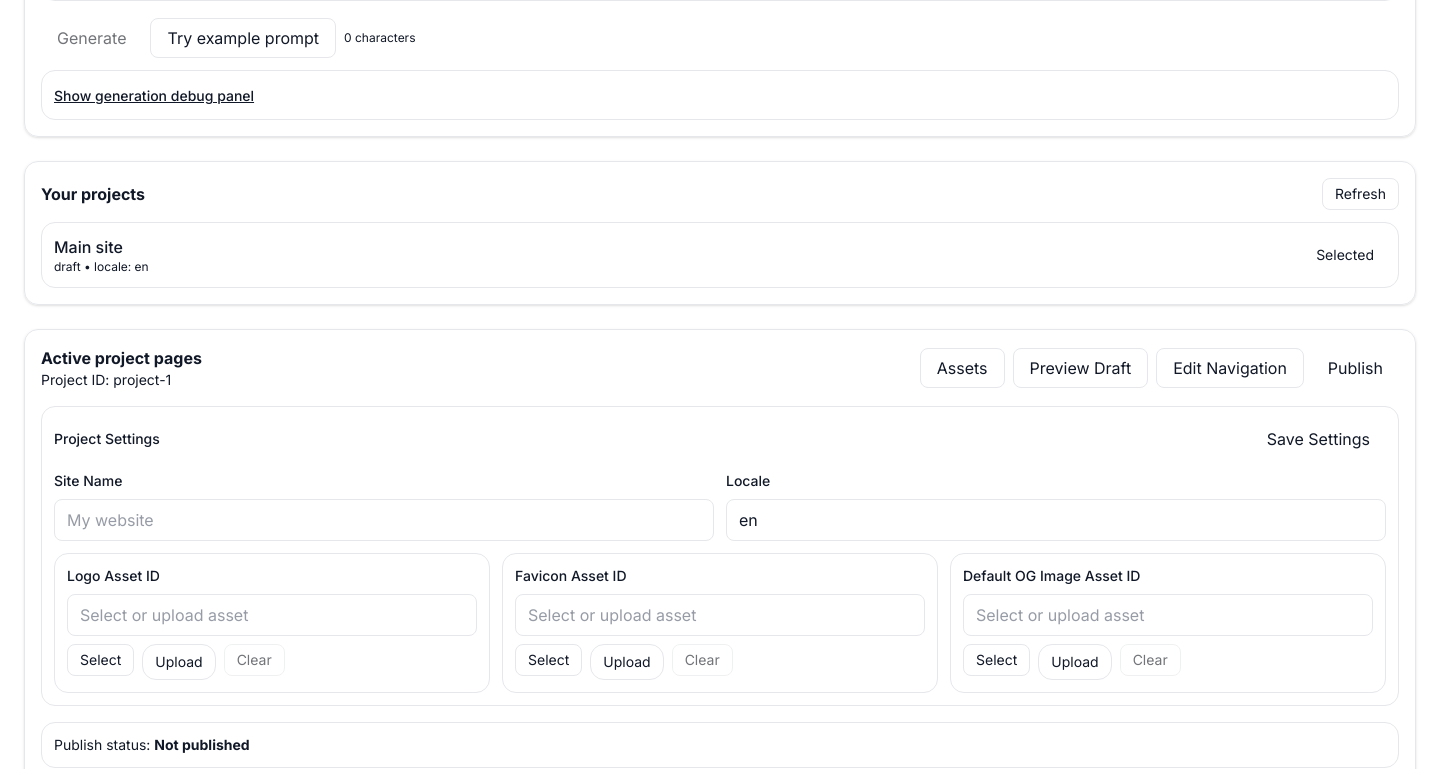
Scenario: ProjectsApiScreen toasts › shows preflight errors and does not enter polling state when publish preflight fails
(page scrolled)
Click the button "Publish": (1355, 368) x1=1312 y1=348 x2=1399 y2=388
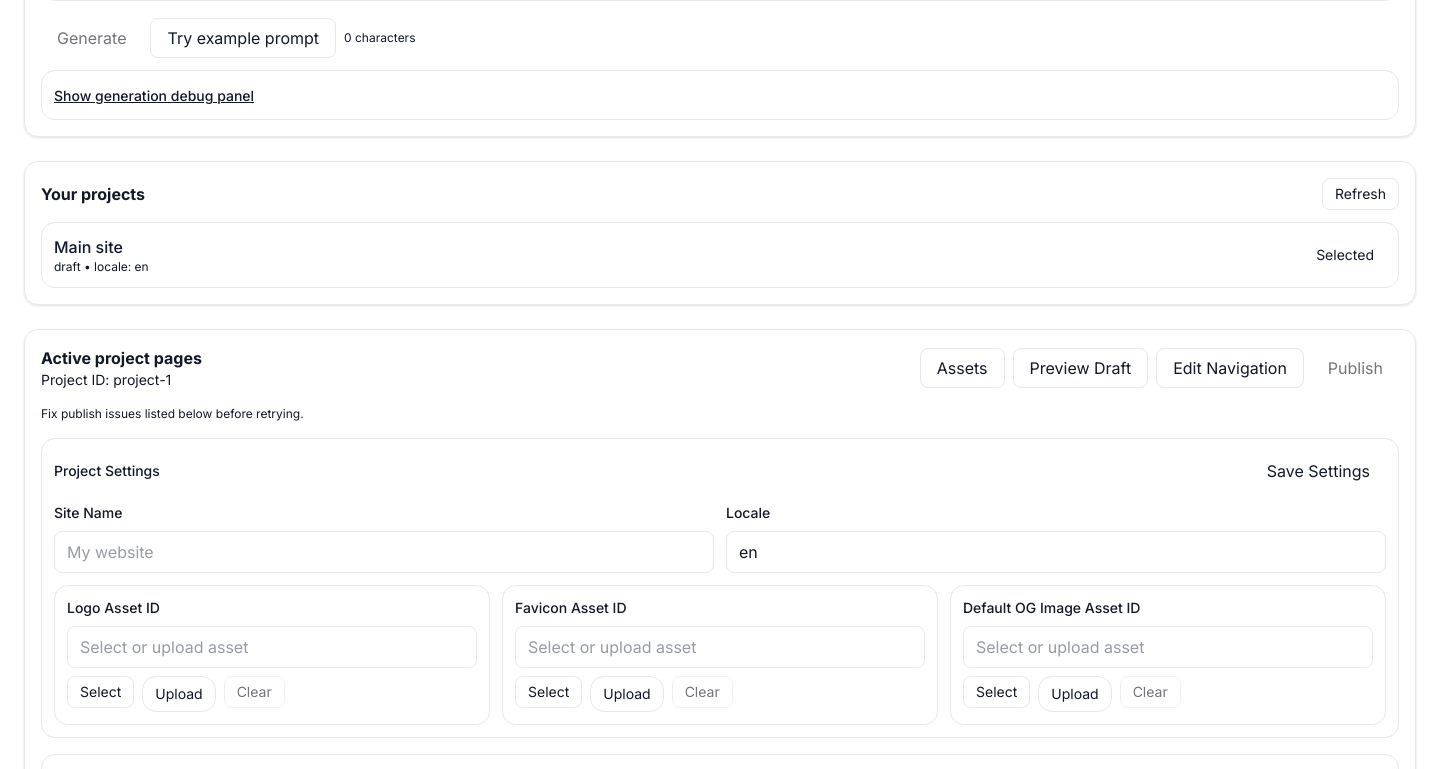
Expected: the button "Publish" is disabled, x1=1312 y1=348 x2=1399 y2=388
